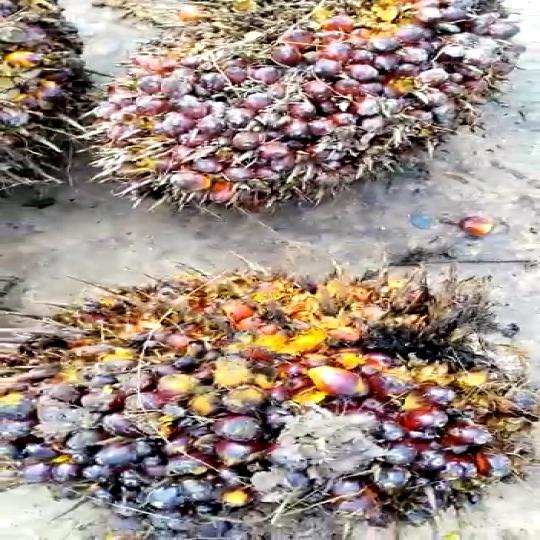masak: (0, 262, 540, 540), (111, 0, 532, 216)
